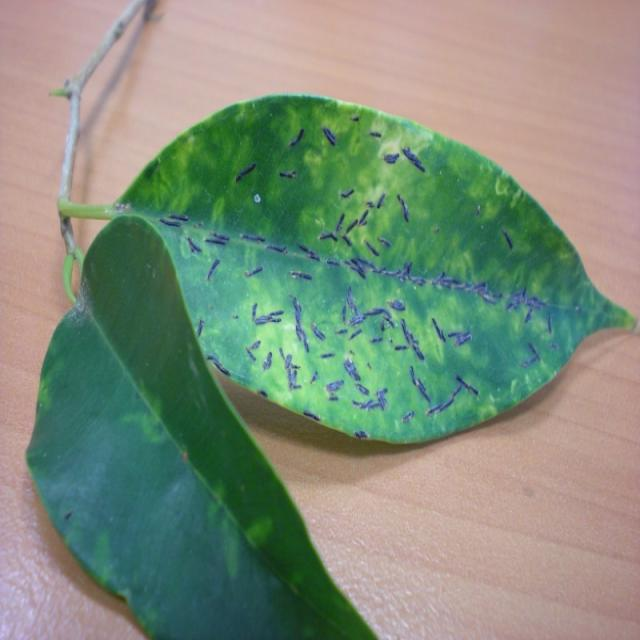IschnaspisLongirostris: (399, 367, 440, 405), (228, 153, 267, 191), (339, 284, 366, 338), (278, 345, 306, 397), (245, 297, 288, 330), (442, 318, 478, 356), (448, 366, 484, 404), (491, 222, 524, 260), (402, 138, 428, 182), (287, 119, 314, 155), (336, 348, 362, 385), (241, 220, 269, 250), (393, 183, 415, 221), (159, 210, 194, 232), (322, 116, 341, 151), (389, 290, 411, 316), (338, 177, 358, 203), (288, 266, 314, 285)
